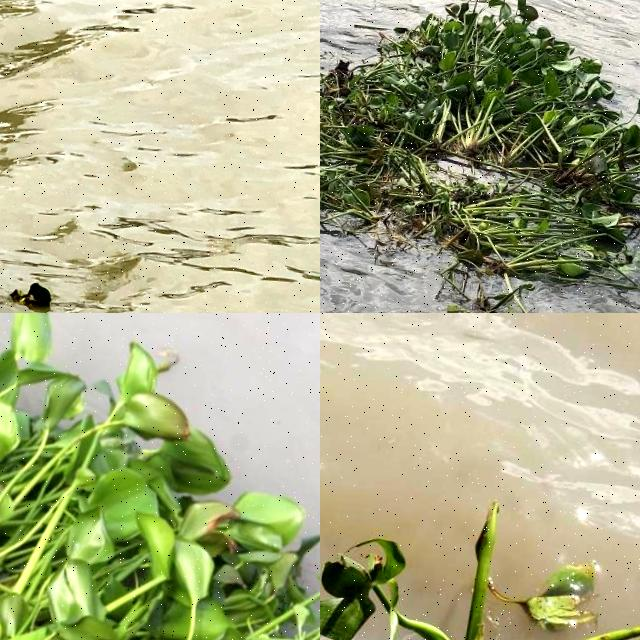water-hyacinth: (1, 313, 317, 640), (321, 1, 640, 313), (321, 472, 640, 640)
